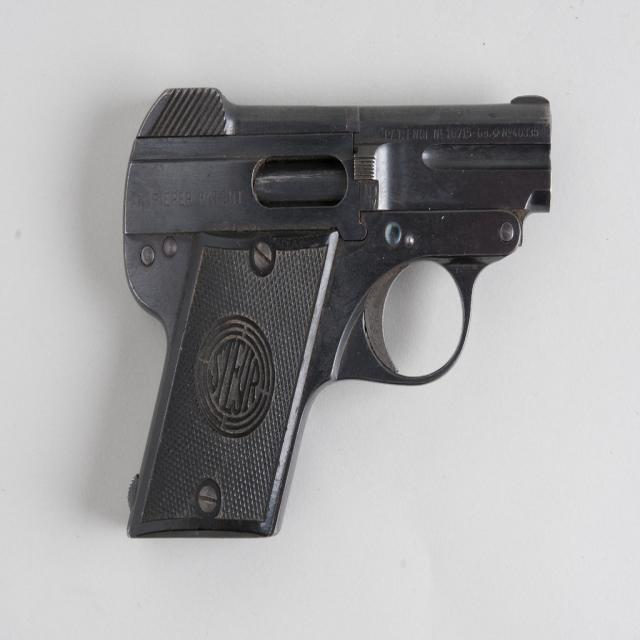Gun: (124, 88, 550, 536)
